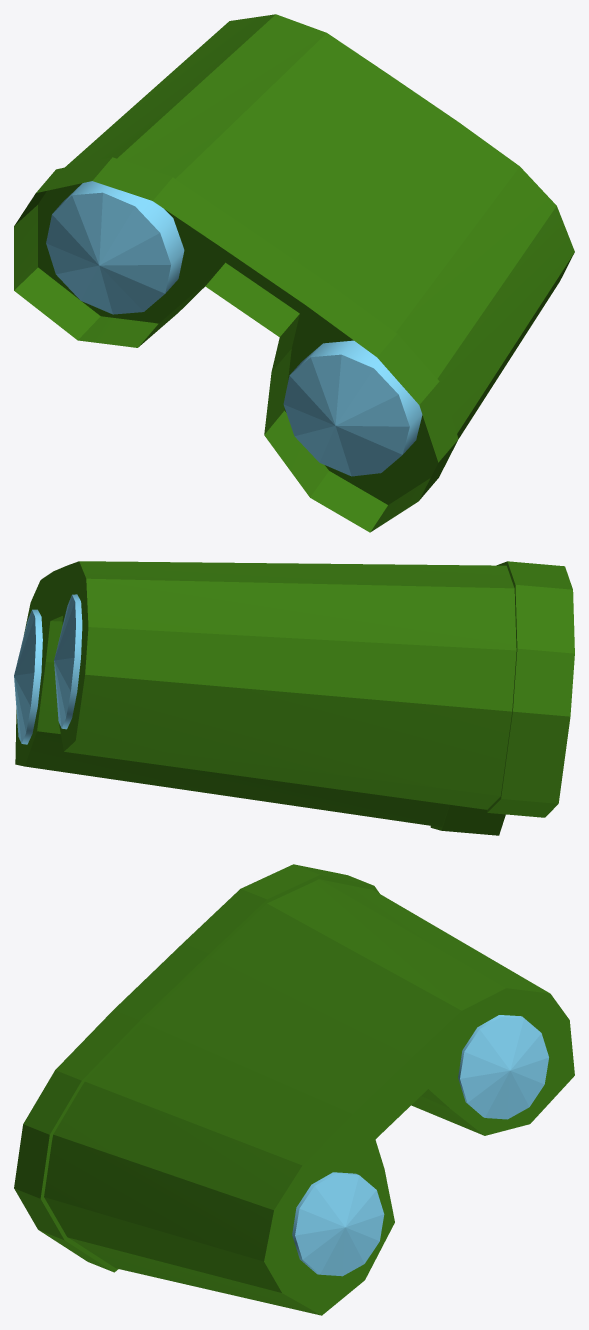
File: binoculars.obj
The picture shows the model from 3 angles, top to bottom: view 1: azimuth 30°, elevation 25°; view 2: azimuth 150°, elevation 25°; view 3: azimuth 270°, elevation 25°; orthographic projection. The views are drawn at different scales.
Visible parts, largest first — view 1: body, glass1, glass; view 2: body, glass, glass1; view 3: body, glass, glass1.
Boxes of the visible parts, <box> form: body: <box>14,14,574,532</box>; glass1: <box>46,181,184,314</box>; glass: <box>283,340,422,476</box>; body: <box>15,561,574,835</box>; glass: <box>14,609,42,744</box>; glass1: <box>54,594,82,729</box>; body: <box>14,864,574,1315</box>; glass: <box>292,1172,384,1276</box>; glass1: <box>458,1015,548,1119</box>.
Size of the model in its own units: 1.15 by 0.7294 by 1.12.
